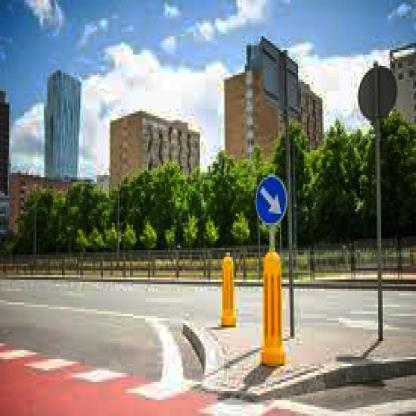Keep right: (256, 175, 287, 226)
